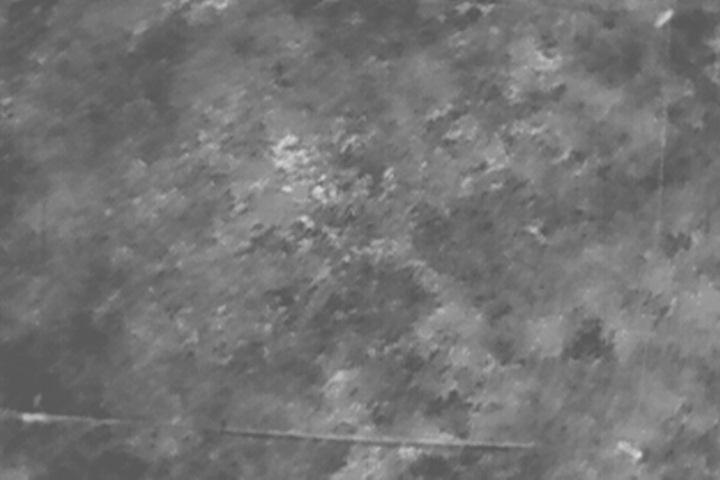landmine: (274, 139, 330, 181)
